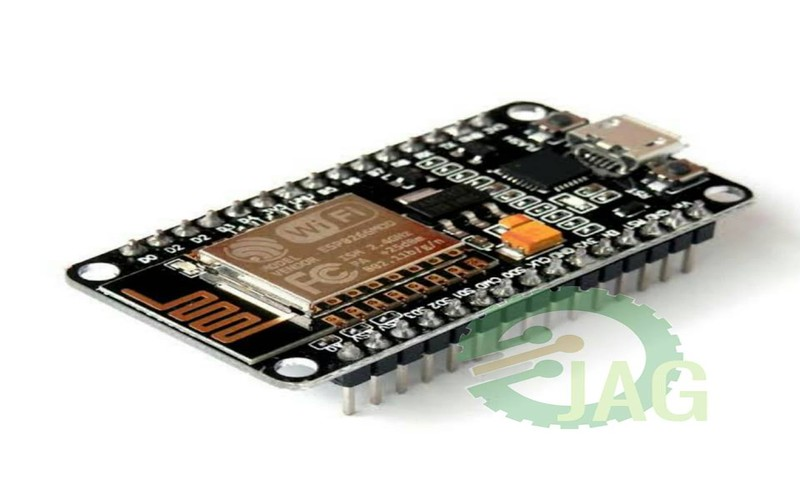IoT Sensor: (50, 62, 772, 427)
